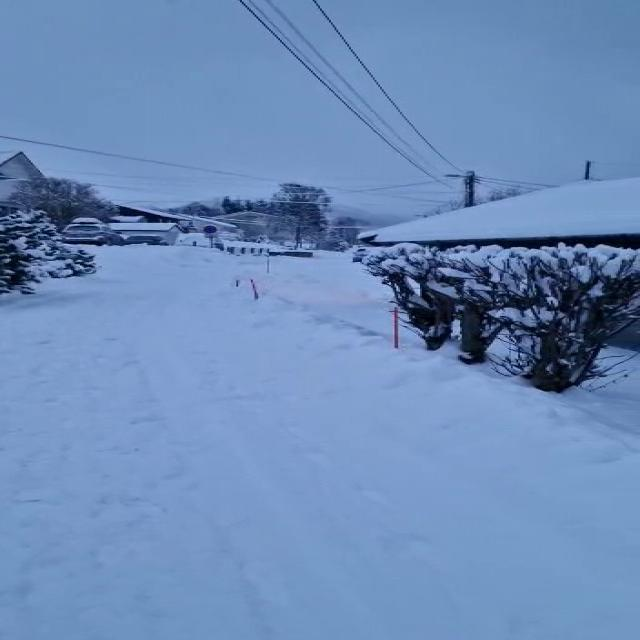path: (0, 243, 640, 640)
